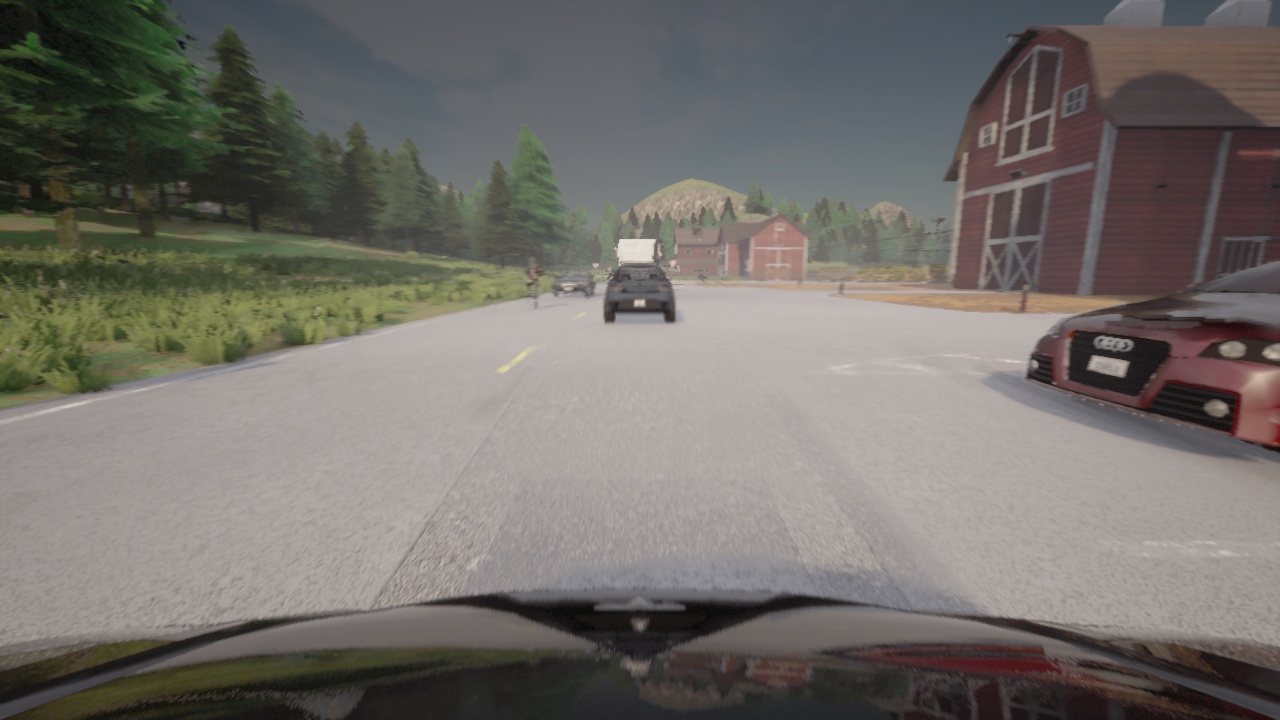cyclist: (0, 588, 1279, 719), (1024, 259, 1279, 445), (604, 263, 674, 322), (615, 237, 665, 275), (553, 268, 594, 296), (527, 276, 535, 307), (694, 274, 709, 282), (609, 271, 614, 276)
